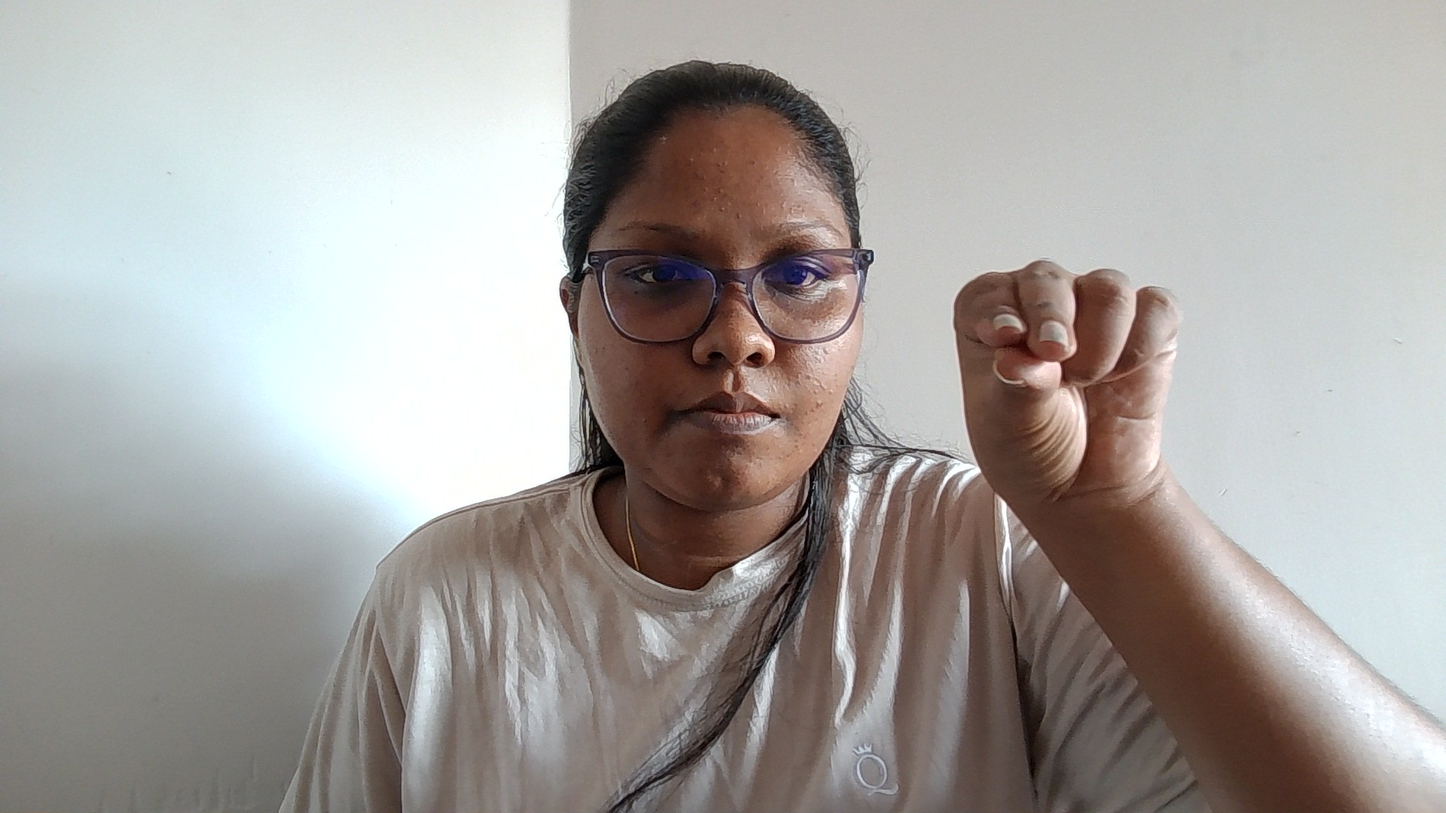No: (943, 155, 1295, 615)
